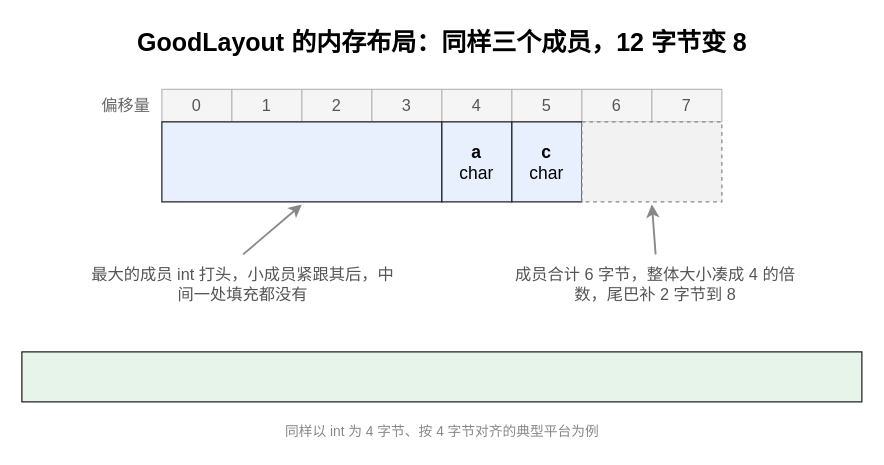
This 884x465 diagram has some shape labels left out. The centre of each missing label's shape, as x and y in pixels:
b int（4 字节）: point (301, 161)
填充 ×2: point (651, 161)
成员合计 6 字节 + 填充 2 字节 = sizeof(GoodLayout) = 8: point (441, 376)
